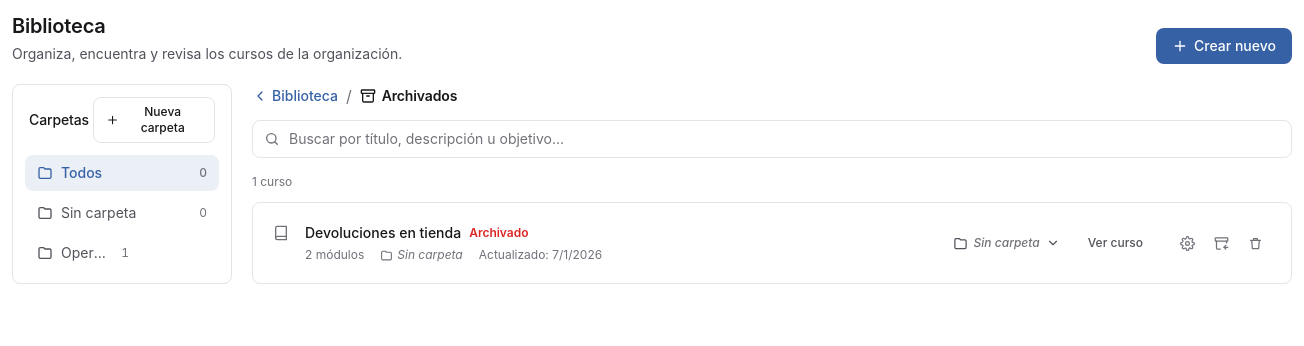
Test: Content — unarchiving › says the course is no longer archived, in the admin's language
Click the button named "Desarchivar Devoluciones en tienda" at [1221, 243], box [1205,227,1237,259]
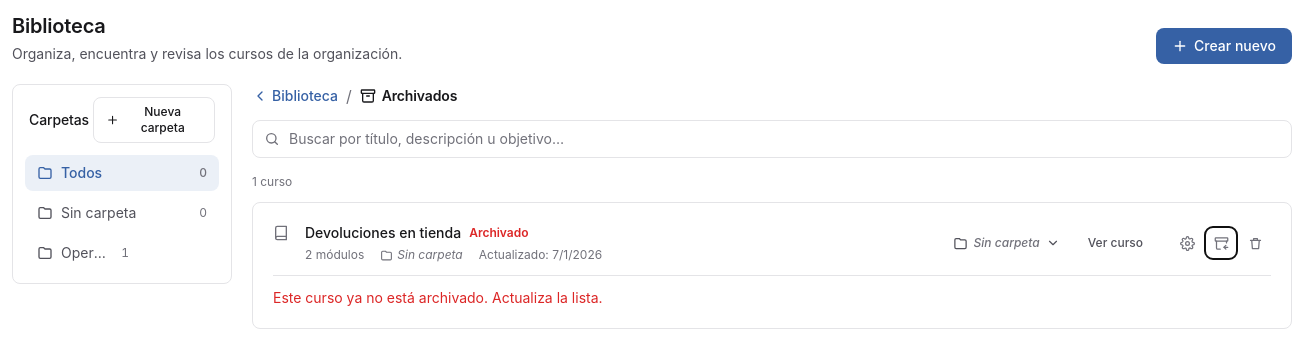
Result: the message reads "Este curso ya no está archivado. Actualiza la lista." at [273,289,603,306]
